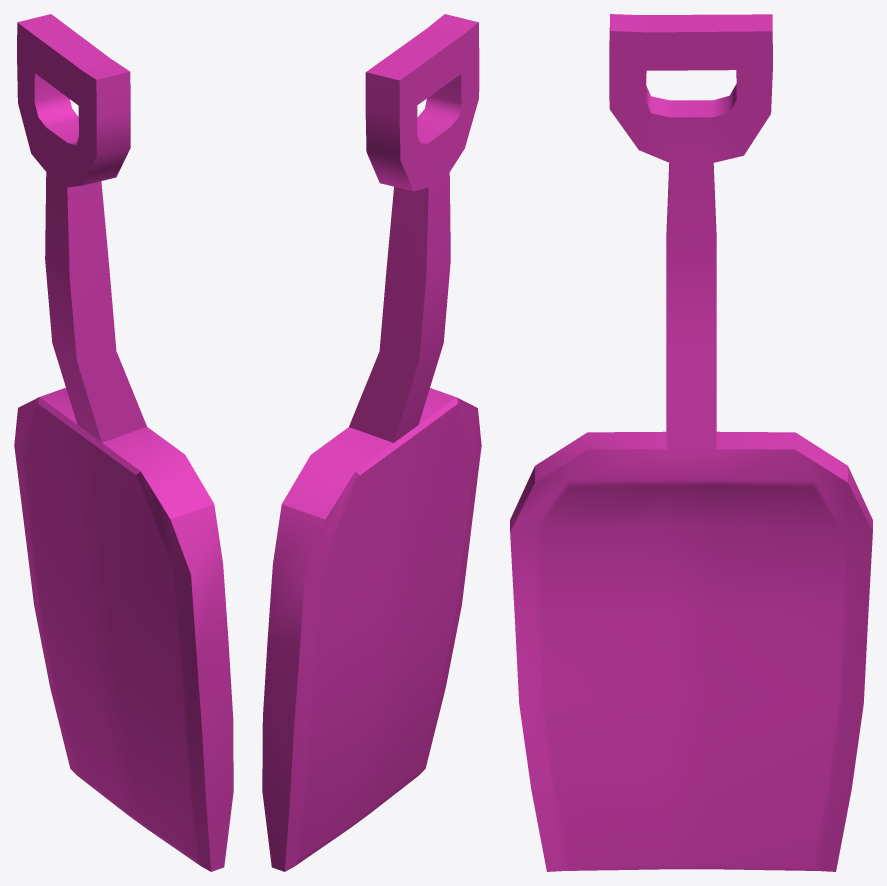
The model's file is Trowel.fbx.
The picture shows the model from 3 angles, left to right: view 1: azimuth 30°, elevation 25°; view 2: azimuth 150°, elevation 25°; view 3: azimuth 270°, elevation 25°; orthographic projection. The views are drawn at different scales.
Parts seen in each view (by area): view 1: pCube1; view 2: pCube1; view 3: pCube1.
Boxes of the visible parts, x1,y1,x2,y2 form: pCube1: [14, 14, 233, 871]; pCube1: [262, 14, 481, 871]; pCube1: [510, 14, 872, 871].
Size of the model in its own units: 0.0651 by 0.4972 by 0.2016.
